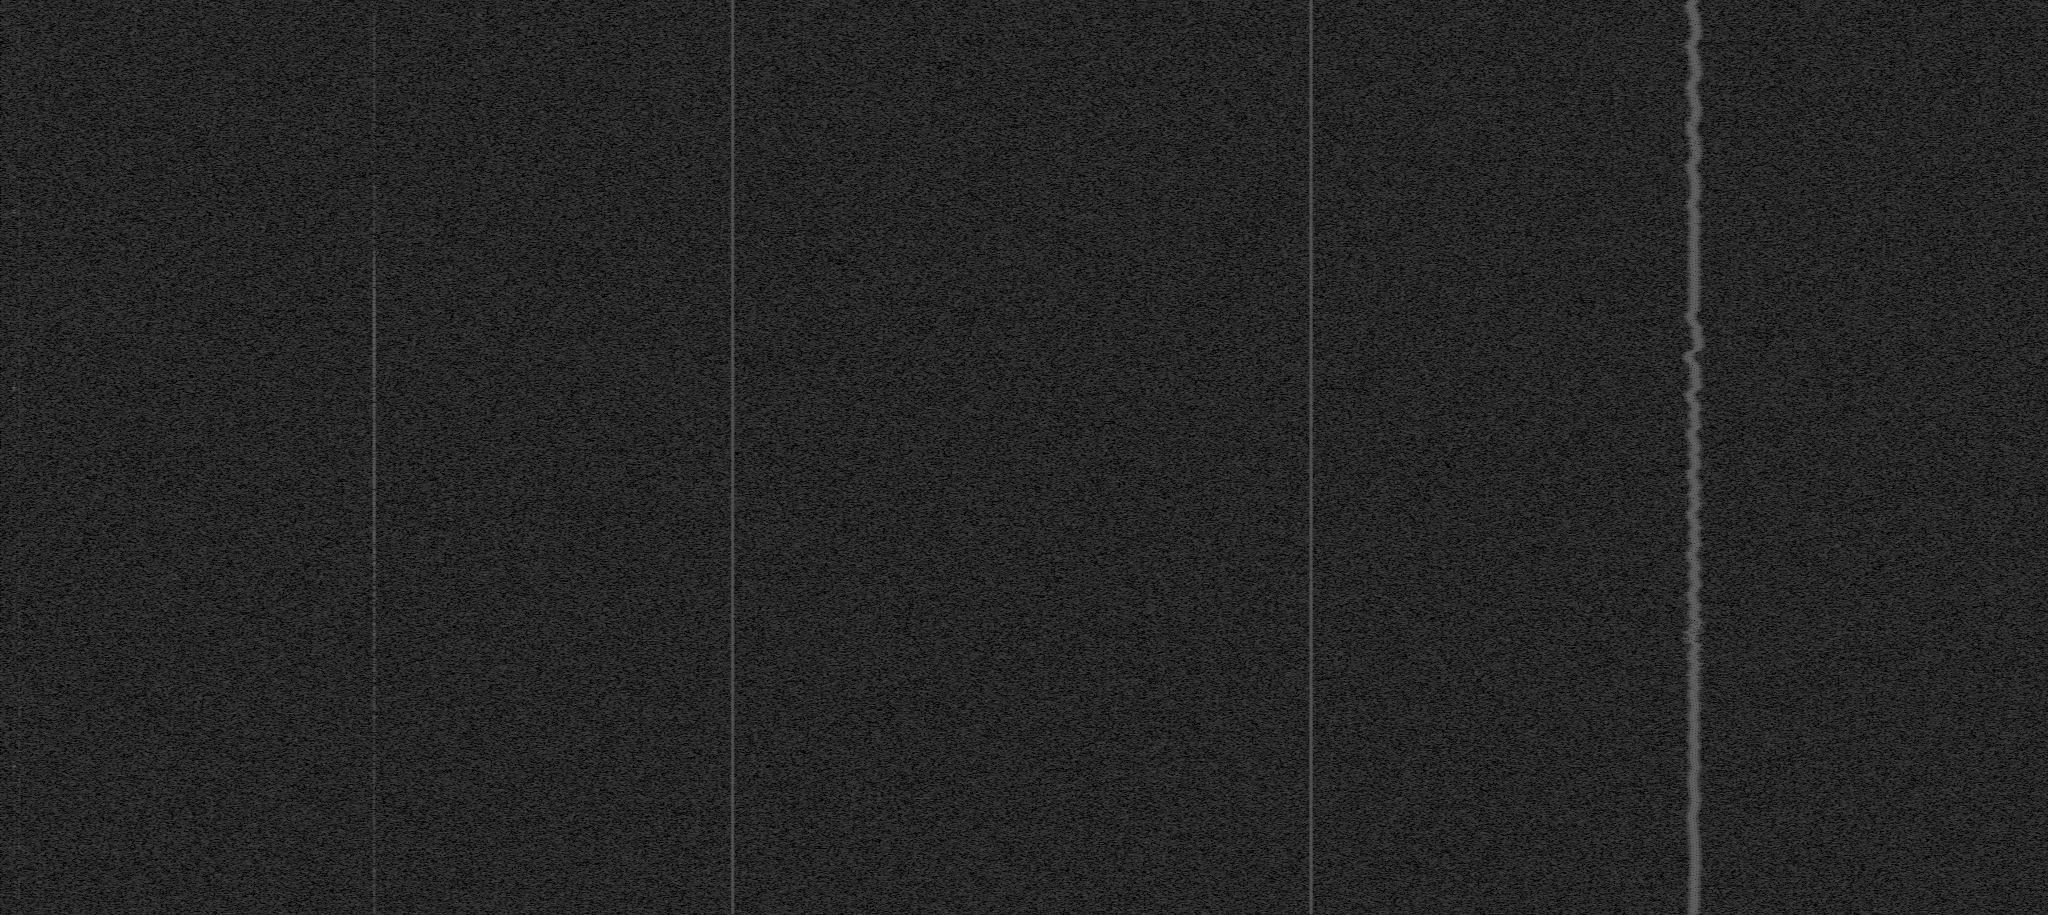wv_am: (724, 0, 741, 915), (17, 0, 22, 630), (17, 634, 21, 915)
wv_cw: (1304, 0, 1319, 915)
wv_lsb: (371, 245, 377, 814), (372, 110, 377, 244), (371, 814, 377, 915), (372, 10, 377, 110)
wv_usb: (10, 380, 17, 407), (12, 597, 17, 625), (10, 758, 17, 771), (12, 842, 17, 856), (12, 235, 16, 253), (12, 208, 17, 221), (12, 106, 16, 119), (12, 644, 17, 651), (12, 553, 17, 561), (12, 174, 17, 181), (13, 813, 16, 828), (12, 298, 16, 305), (12, 905, 16, 912), (12, 445, 17, 450), (13, 137, 16, 147), (12, 895, 17, 901), (12, 55, 16, 61), (13, 362, 16, 371), (12, 794, 16, 799), (13, 529, 16, 536), (13, 482, 16, 489), (13, 17, 16, 25), (13, 563, 16, 569), (13, 255, 16, 261), (12, 292, 16, 296), (12, 198, 16, 202), (13, 804, 16, 809), (13, 788, 16, 794), (13, 779, 16, 784), (12, 718, 17, 721), (13, 266, 16, 271), (13, 188, 16, 193), (13, 168, 16, 174), (13, 831, 16, 835), (12, 658, 16, 660), (13, 542, 16, 546), (13, 375, 16, 379), (13, 307, 16, 311), (13, 282, 16, 286), (13, 275, 16, 279), (12, 262, 16, 265), (13, 183, 16, 187), (13, 161, 16, 164), (13, 98, 16, 102), (13, 50, 16, 54), (13, 44, 16, 48), (13, 33, 16, 37), (13, 10, 16, 14), (13, 838, 16, 841), (13, 467, 16, 470), (13, 422, 16, 424), (13, 204, 16, 206), (13, 194, 16, 197)
wv_wbfm: (1661, 0, 1724, 915)
